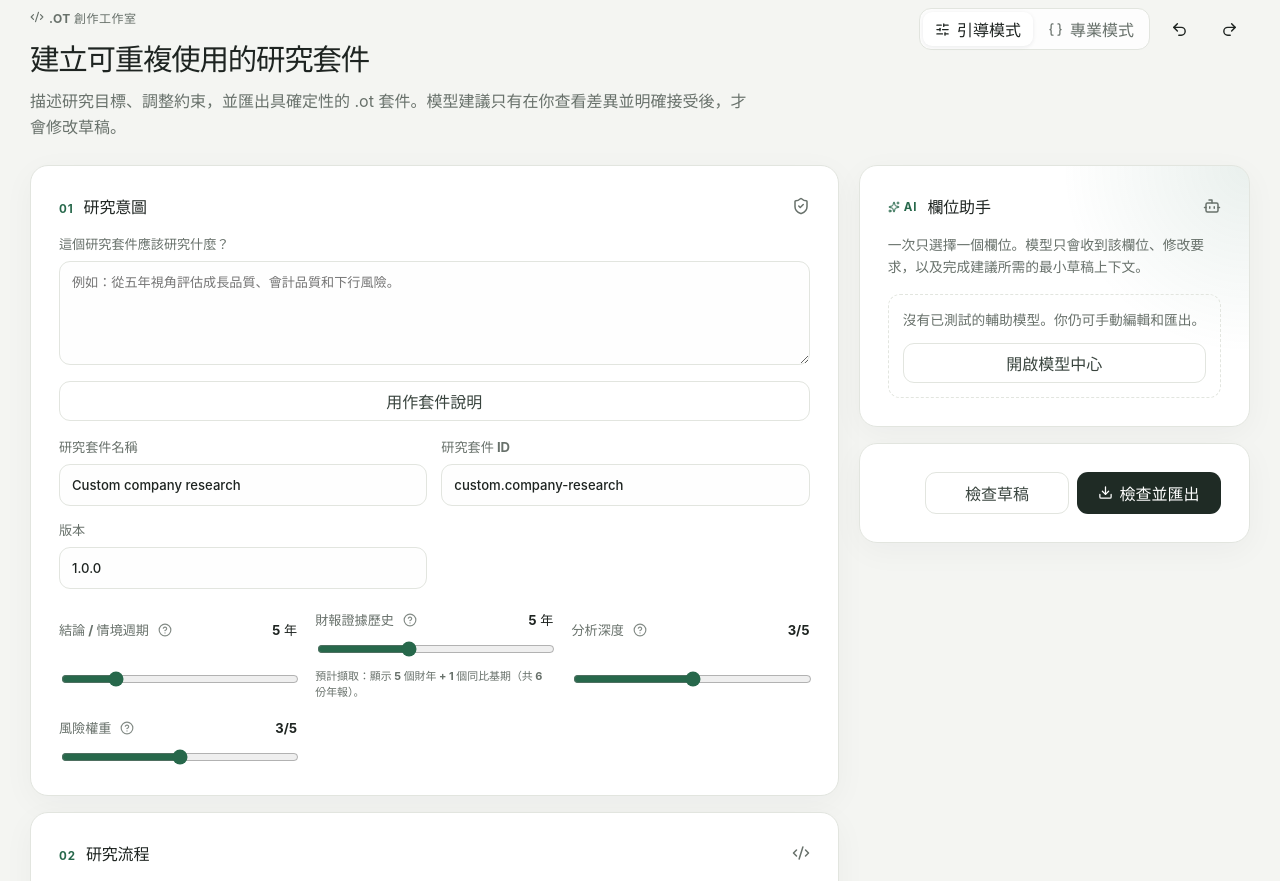
Scenario: OtStudioView › renders the complete Studio interface in Traditional Chinese
Expected: the text "沒有已測試的輔助模型。你仍可手動編輯和匯出。" is shown, [903,309,1206,331]
Expected: the heading "建立可重複使用的研究套件" is shown, [30,41,369,77]
Click the button "檢查草稿": (997, 493) [925,472,1069,514]
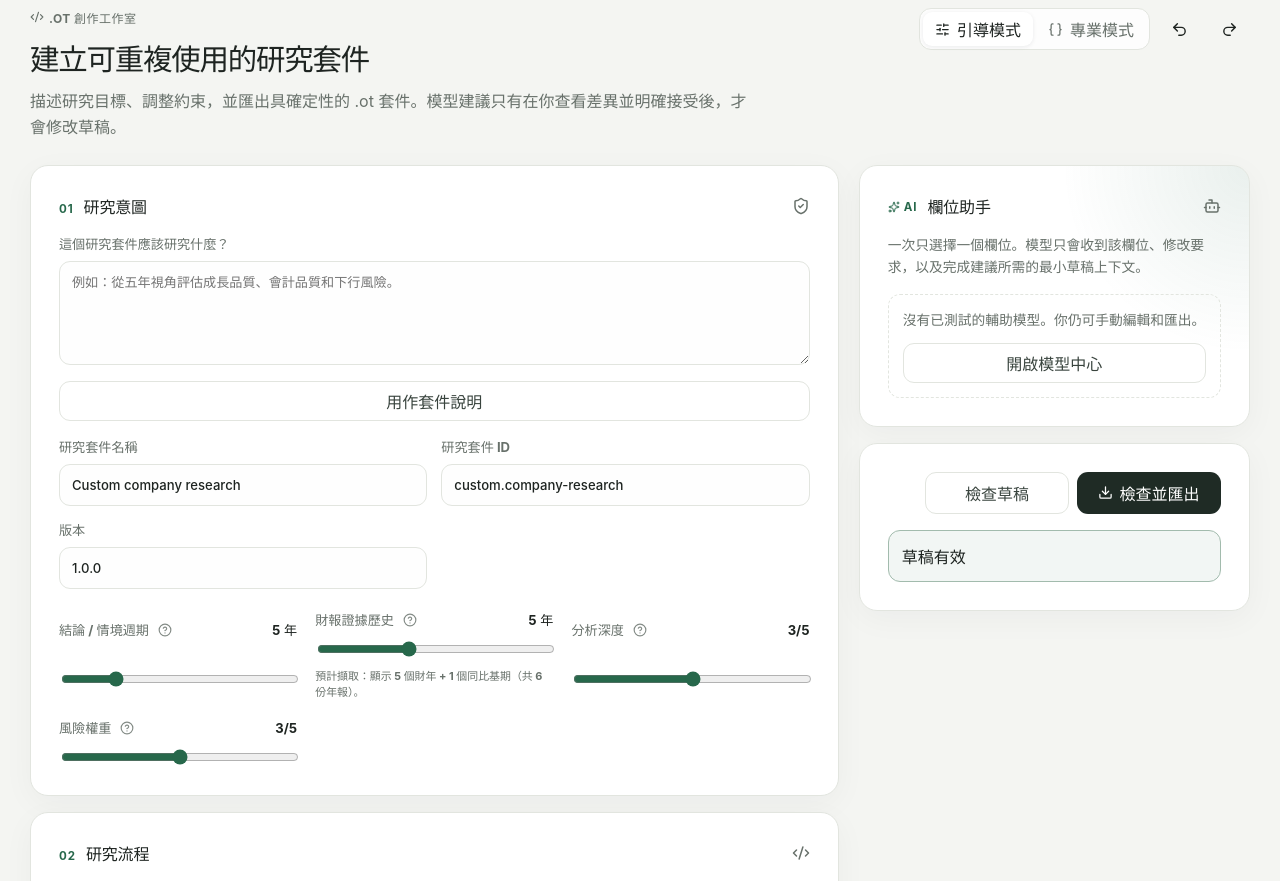
Expected: the text "草稿有效" is shown, [902,547,966,567]
